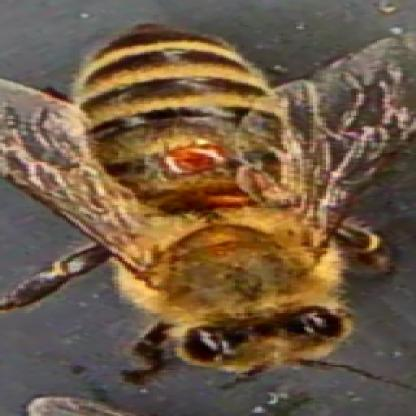bee: (56, 27, 372, 368)
vaoora: (163, 144, 232, 170)
